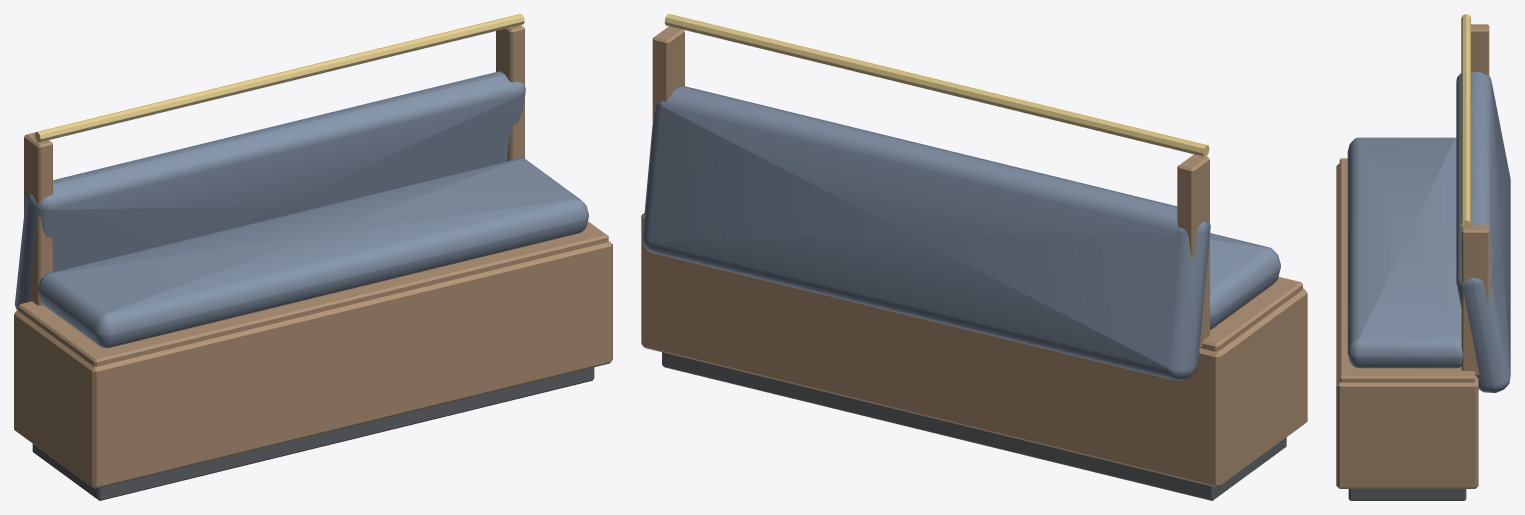
Rendered from submarine-interior-and-control-room-wardroom-bench-6fcfb55d__36500.glb.
3 views of the same model, side by side, from view 1: azimuth 30°, elevation 25°; view 2: azimuth 150°, elevation 25°; view 3: azimuth 270°, elevation 25° (orthographic). The views are drawn at different scales.
Parts seen in each view (by area): view 1: wardroom-bench, hatch/fabric, hatch/timber; view 2: wardroom-bench, hatch/fabric, hatch/timber; view 3: wardroom-bench, hatch/fabric, hatch/timber.
Part boxes in pixels (left/top/right/bottom): wardroom-bench: left=14, top=14, right=612, bottom=500; hatch/fabric: left=38, top=158, right=588, bottom=348; hatch/timber: left=18, top=221, right=608, bottom=366; wardroom-bench: left=641, top=14, right=1307, bottom=500; hatch/fabric: left=1210, top=233, right=1280, bottom=329; hatch/timber: left=1200, top=277, right=1302, bottom=351; wardroom-bench: left=1336, top=14, right=1510, bottom=500; hatch/fabric: left=1347, top=137, right=1462, bottom=368; hatch/timber: left=1339, top=158, right=1475, bottom=382.
Size of the model in its own units: 1.7 by 0.996 by 0.5635.
